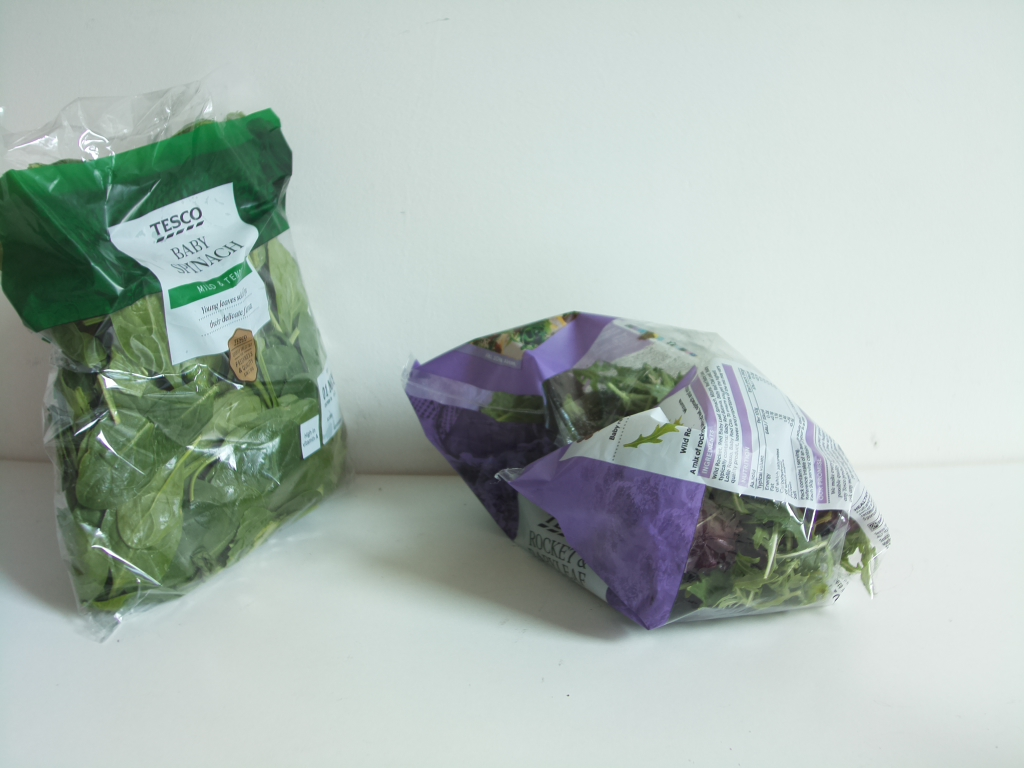salad: (1, 91, 349, 601), (417, 314, 898, 621)
